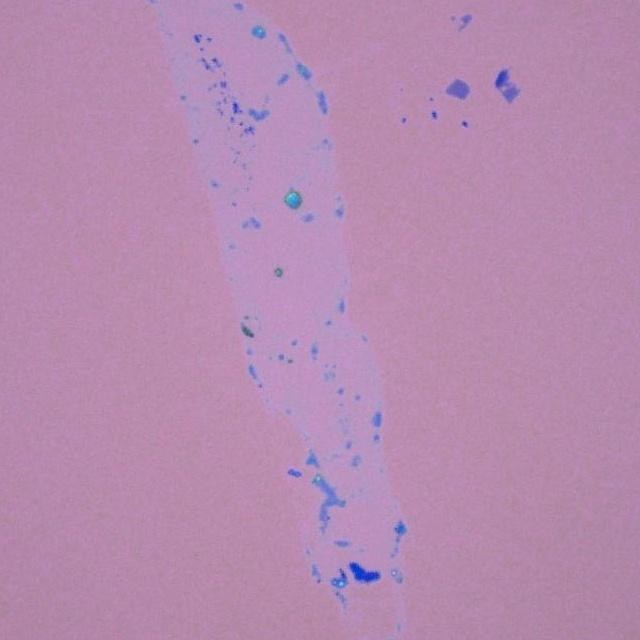monolayer-eWW4: (444, 77, 470, 100), (501, 81, 520, 104), (458, 14, 472, 32)
